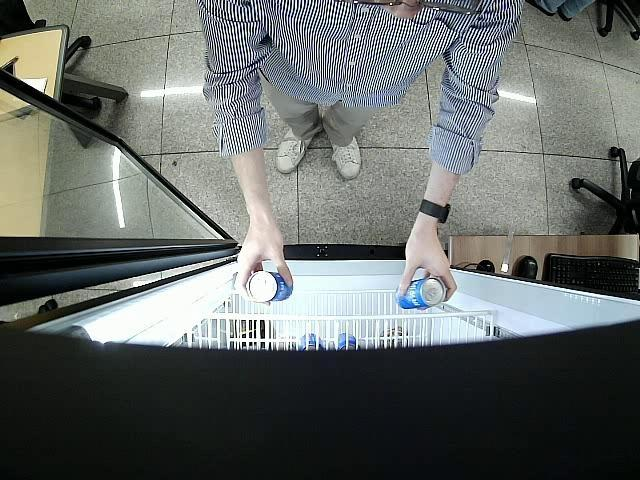15_letsbe: (248, 270, 296, 302), (396, 278, 447, 308)
